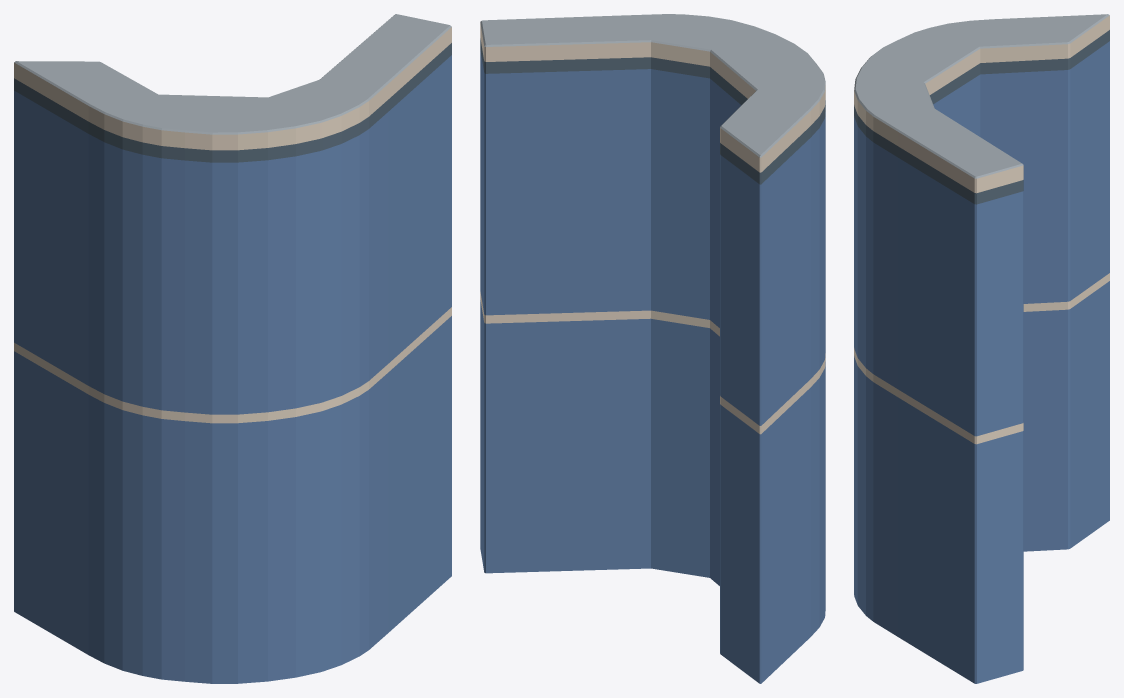
The model's file is detail.glb.
3 views of the same model, side by side, from view 1: azimuth 30°, elevation 25°; view 2: azimuth 150°, elevation 25°; view 3: azimuth 270°, elevation 25° (orthographic). The views are drawn at different scales.
Parts seen in each view (by area): view 1: fontainebleau-las-vegas; view 2: fontainebleau-las-vegas; view 3: fontainebleau-las-vegas.
Part boxes in pixels (x1,y1,x2,y2): fontainebleau-las-vegas: [14, 14, 451, 683]; fontainebleau-las-vegas: [480, 14, 825, 683]; fontainebleau-las-vegas: [854, 14, 1109, 683].
Size of the model in its own units: 155 by 224 by 102.
